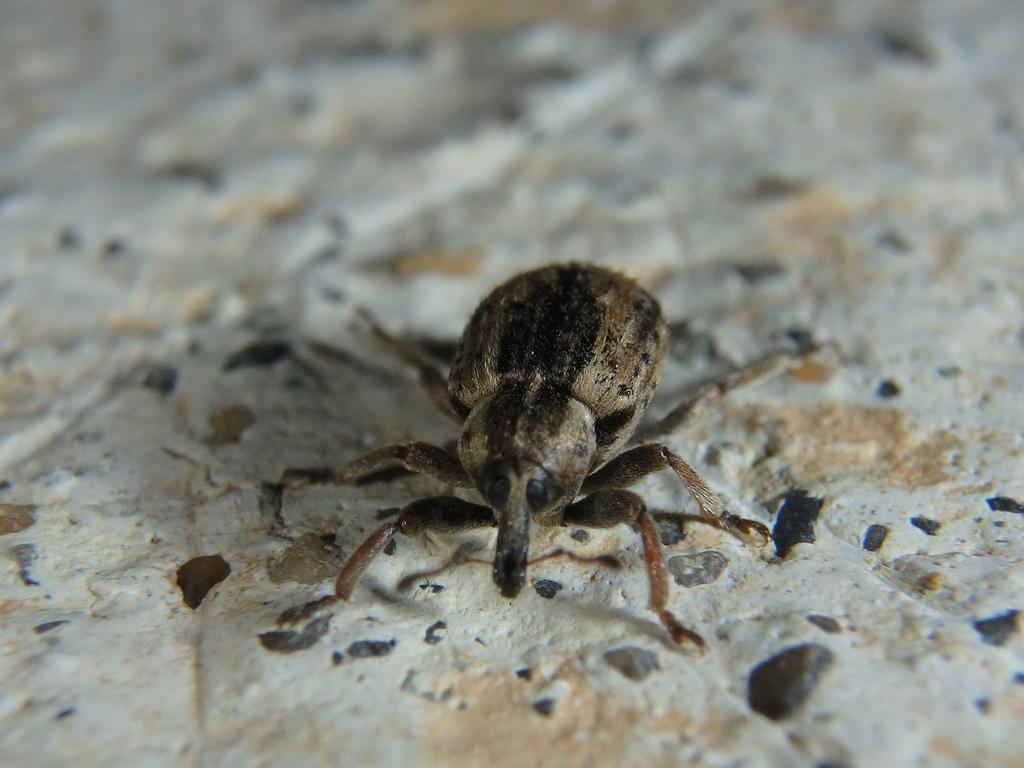weevils: (219, 218, 831, 693)
